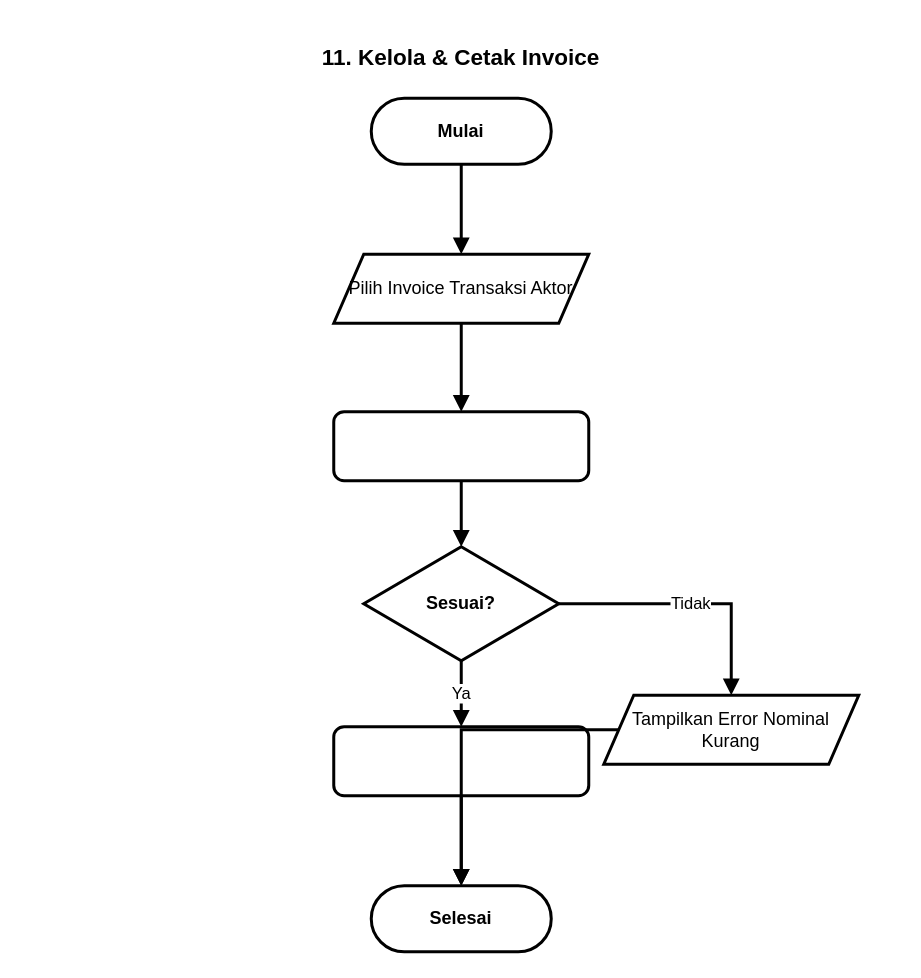
Image size: 921x978. Some labels were removed from this diagram. The shapes that lost their labels are listed below. From the top down, each one's box as (x1, y1, x2, y2) in pixels, then its label:
(332, 410, 590, 482): Input Pembayaran & Validasi Jumlah
(332, 724, 590, 796): Set Status PAID & Cetak Kuitansi
